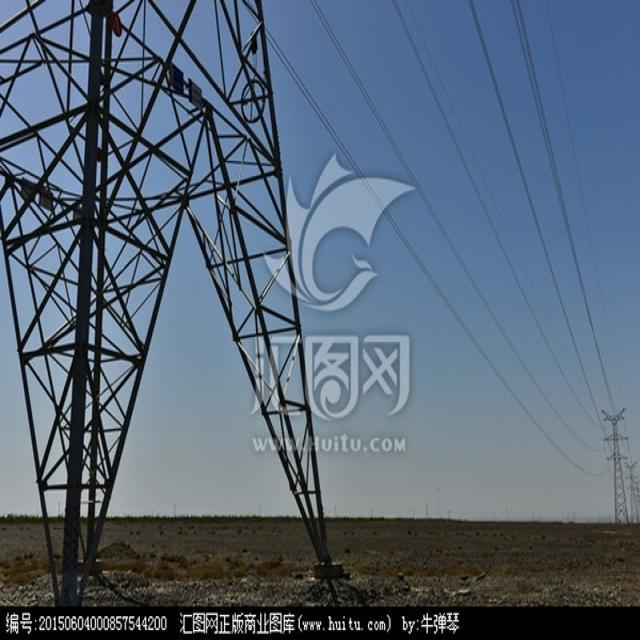non-critical vegetation: (21, 7, 306, 586), (598, 395, 632, 537)
